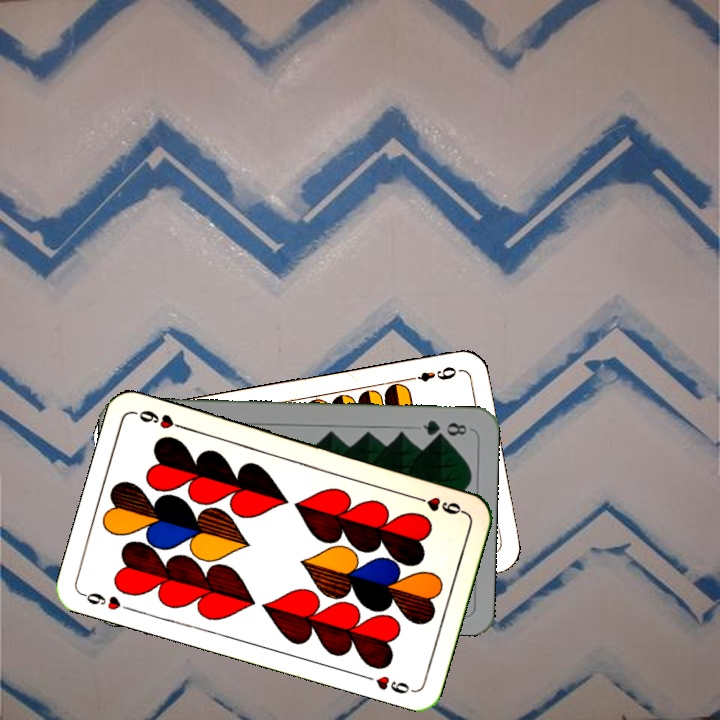E9: (402, 362, 461, 385)
G8: (419, 416, 470, 440)
H9: (409, 491, 467, 517), (79, 588, 136, 614)
